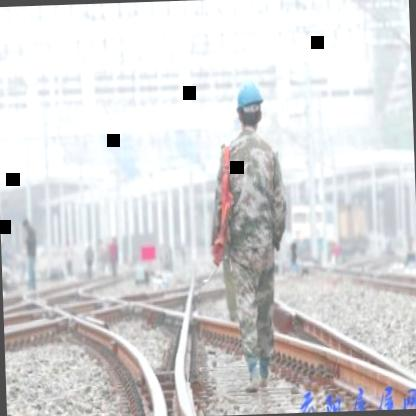helmet: (234, 76, 266, 130)
